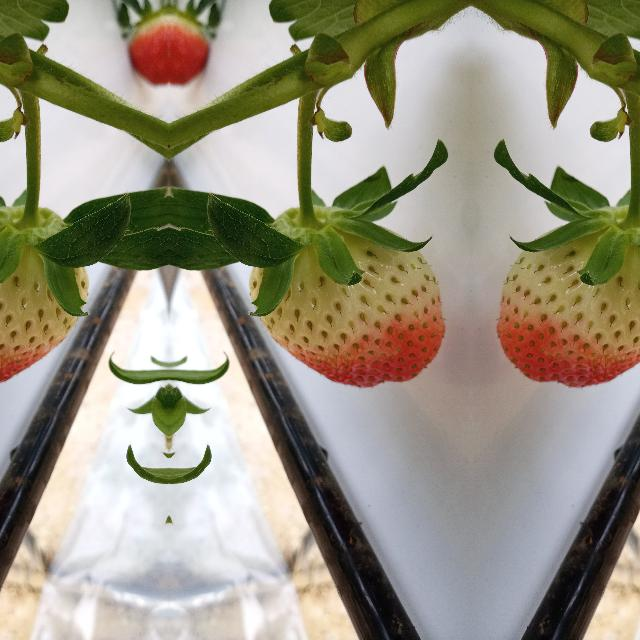Health_50: (248, 224, 446, 390), (495, 224, 640, 389), (0, 224, 88, 389)
